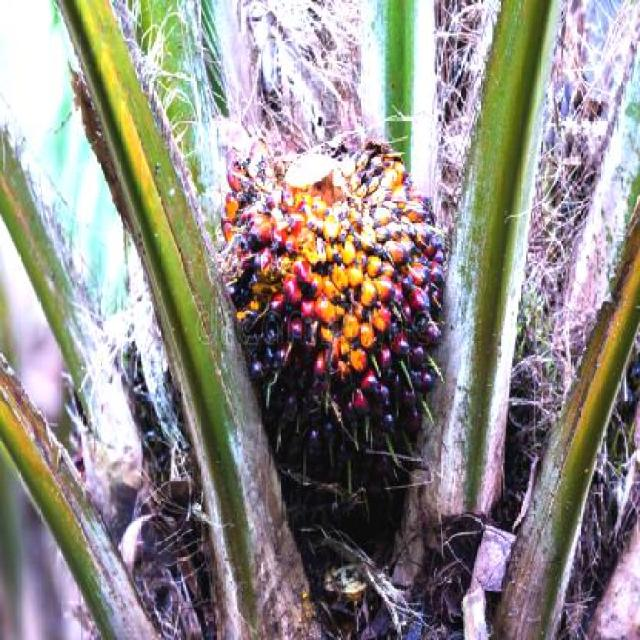palm-oil: (184, 134, 492, 534)
